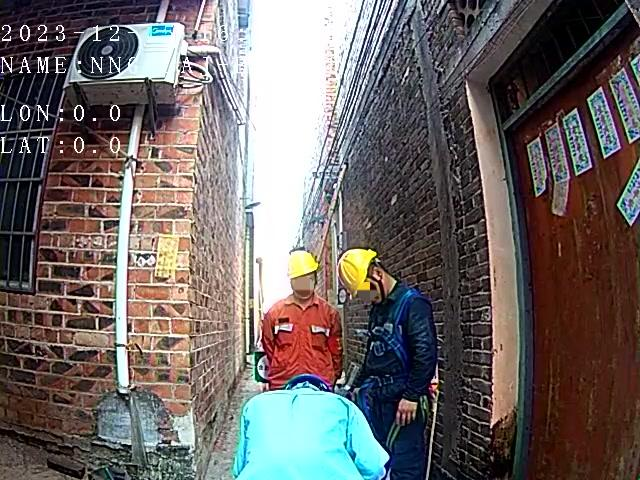halt: (339, 250, 398, 305), (289, 254, 324, 301)
inear: (367, 266, 391, 301)
